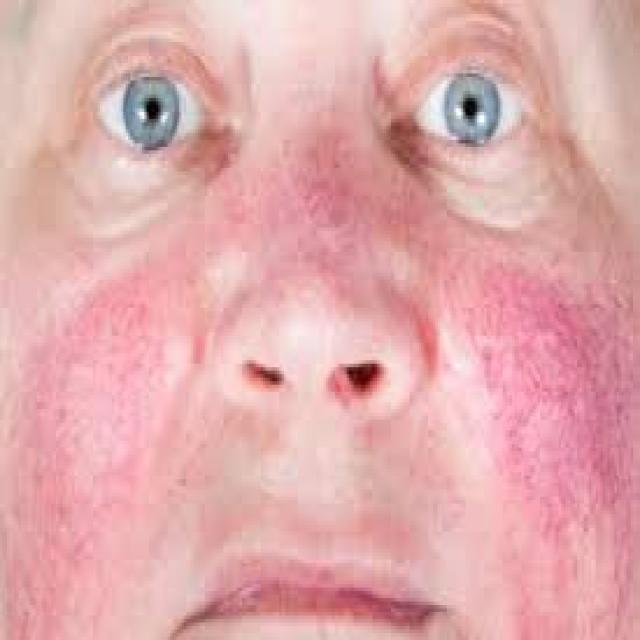Rosacea: (383, 186, 639, 636), (0, 240, 204, 639), (246, 110, 380, 315)
